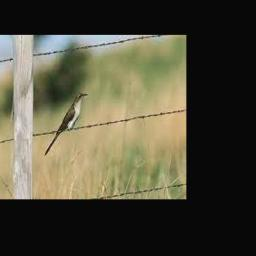Cuckoo: (45, 92, 89, 156)
